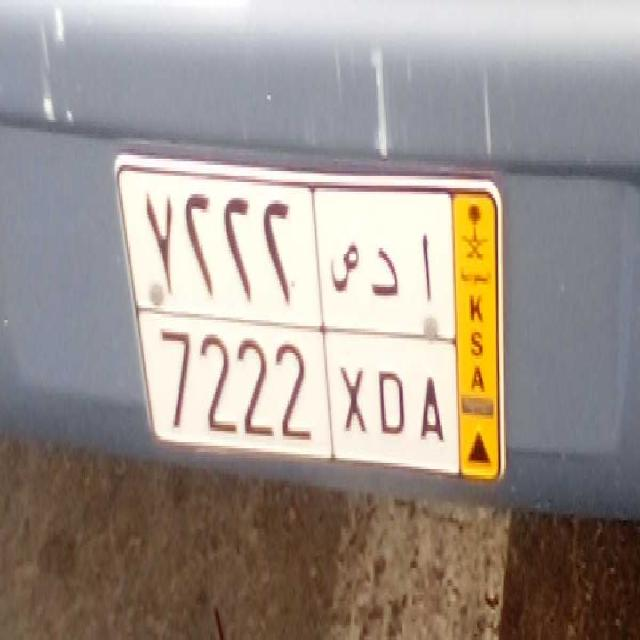license_plate: (136, 310, 460, 474)
